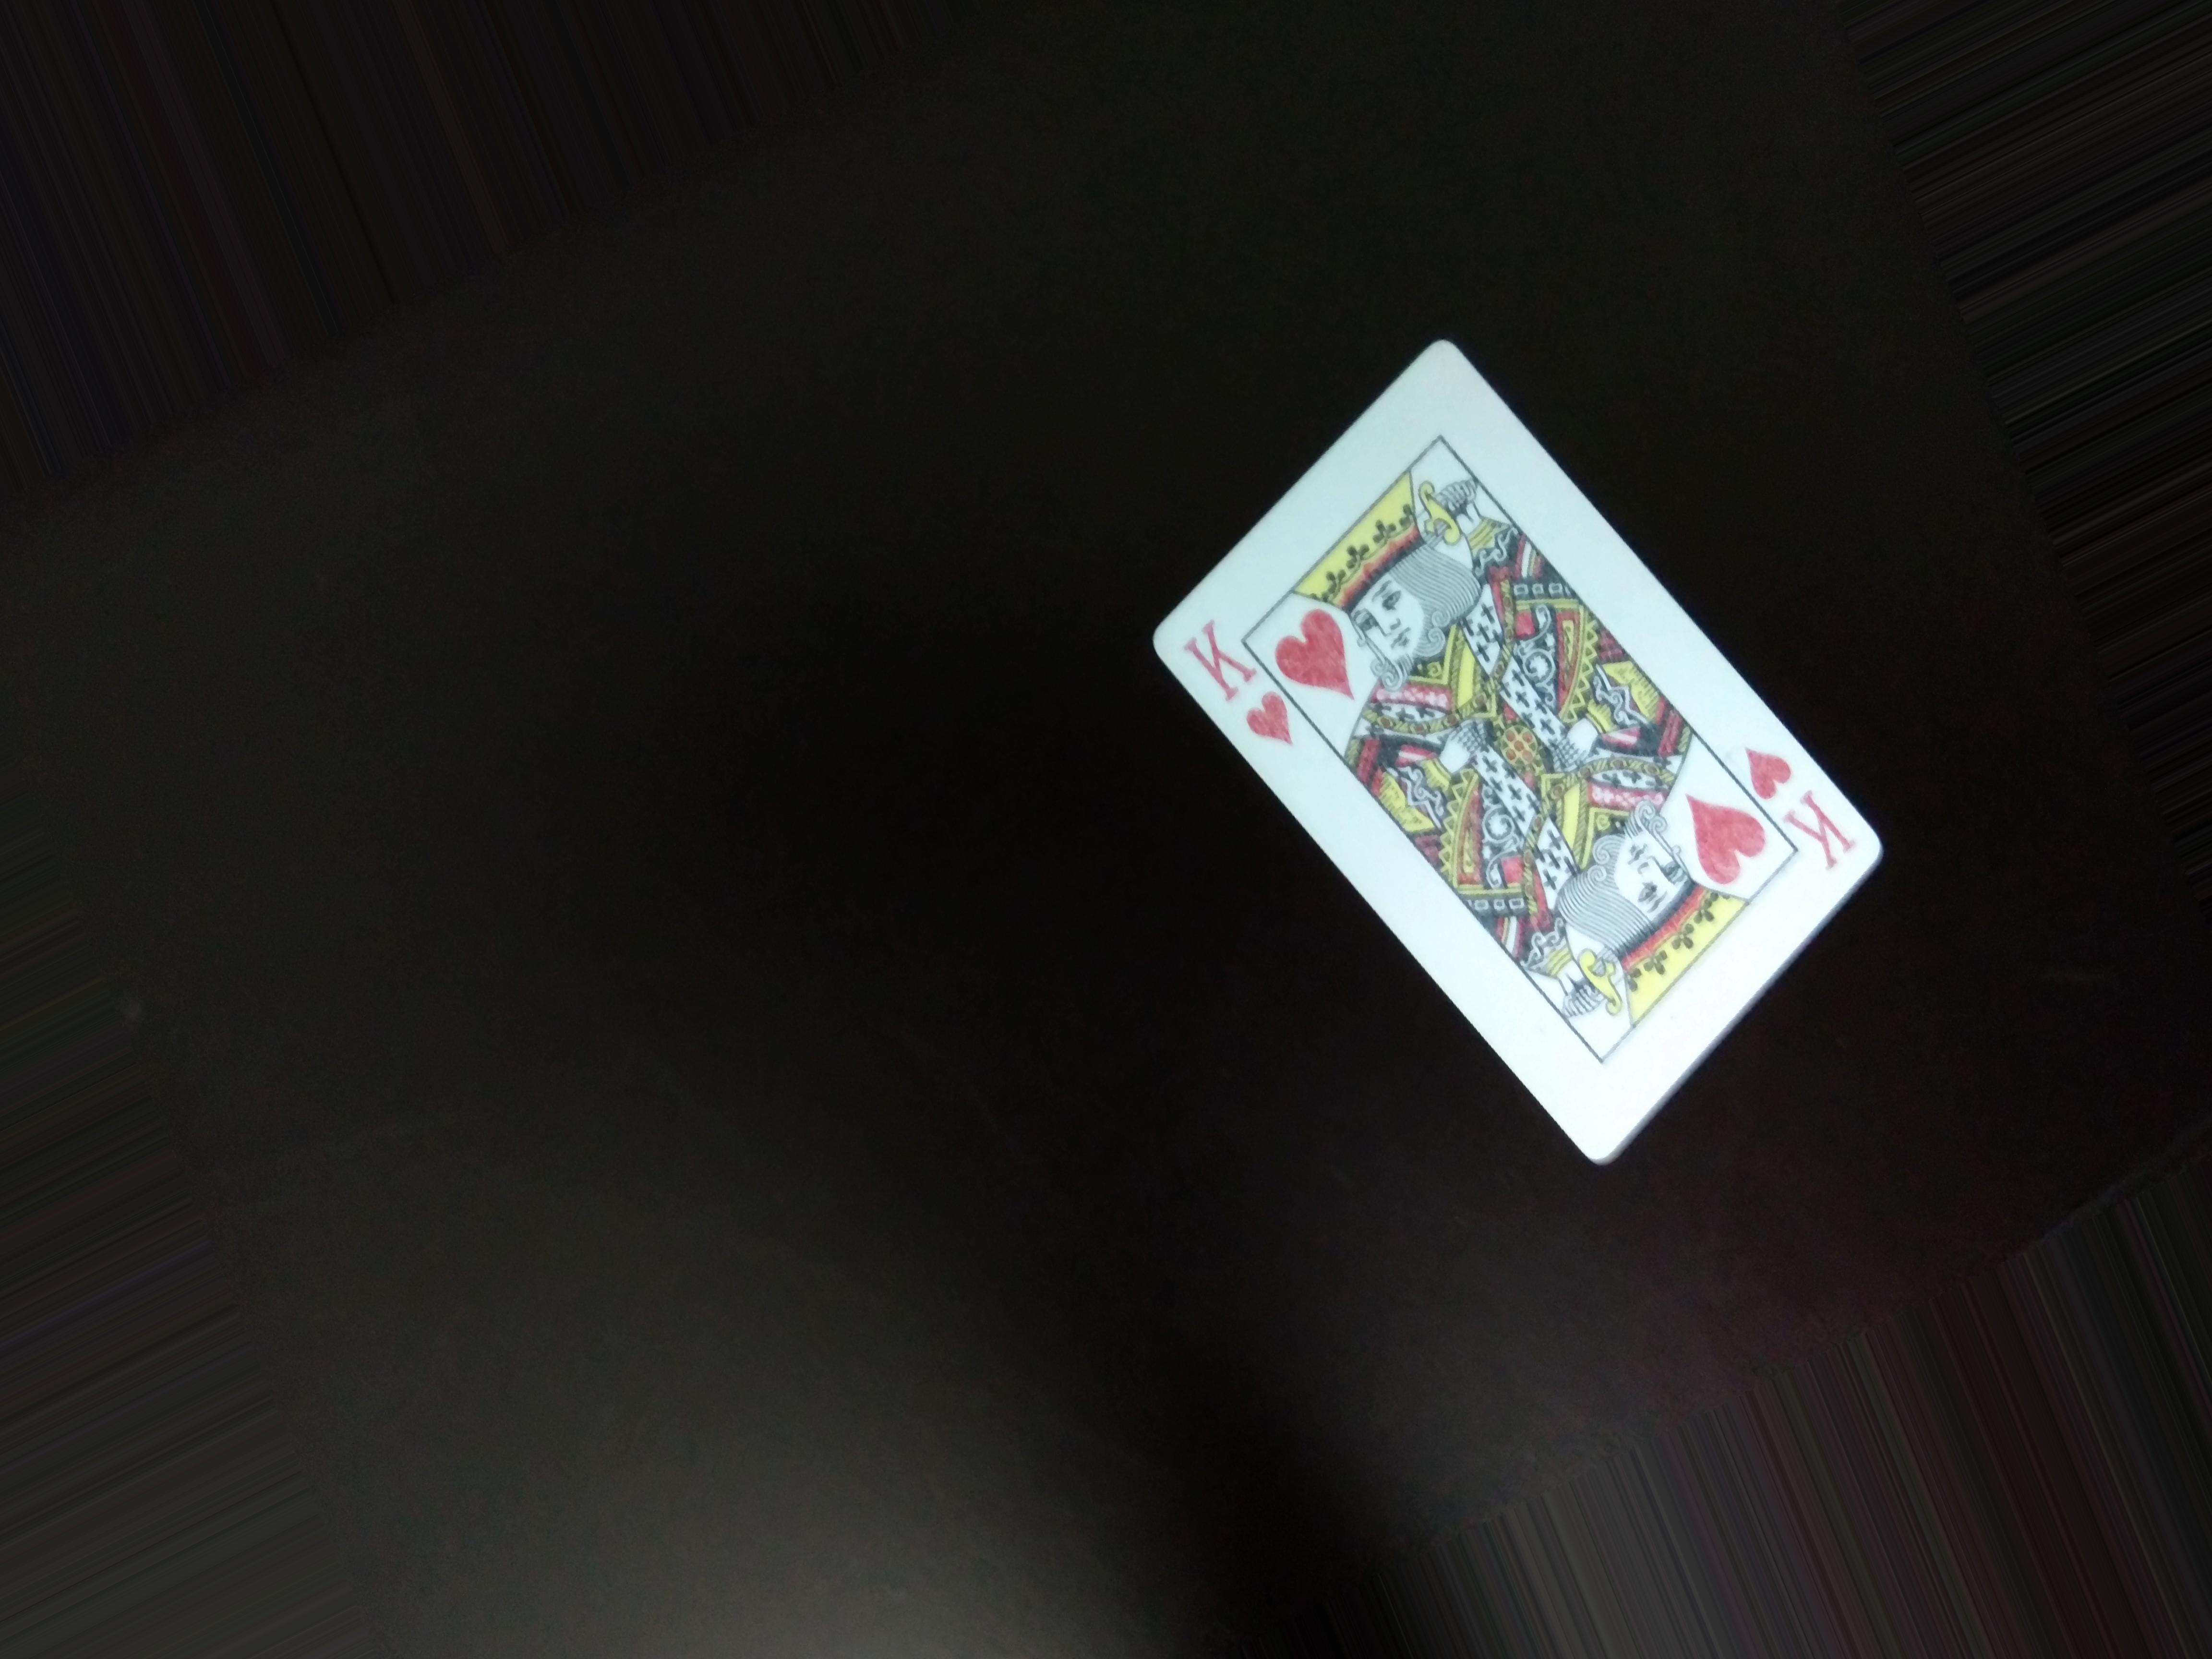KH: (1749, 748, 1867, 859)
